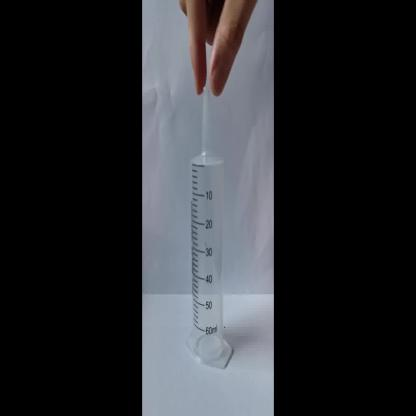dry: (184, 98, 240, 374)
